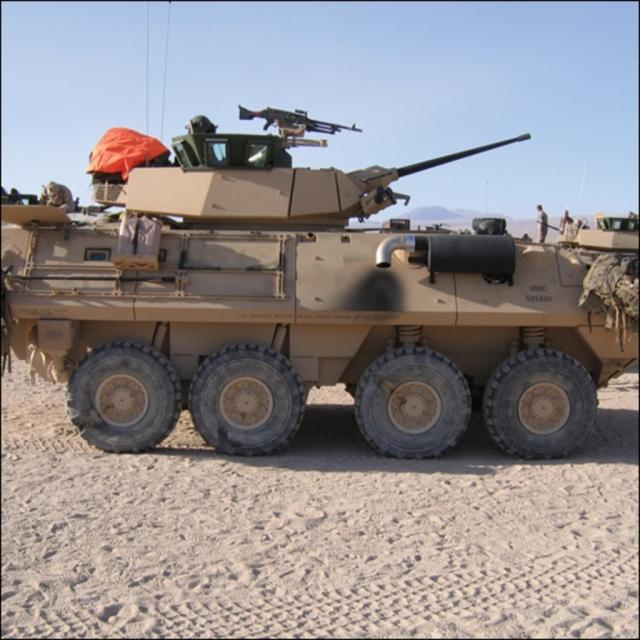tank: (1, 2, 639, 460), (537, 212, 637, 256)
